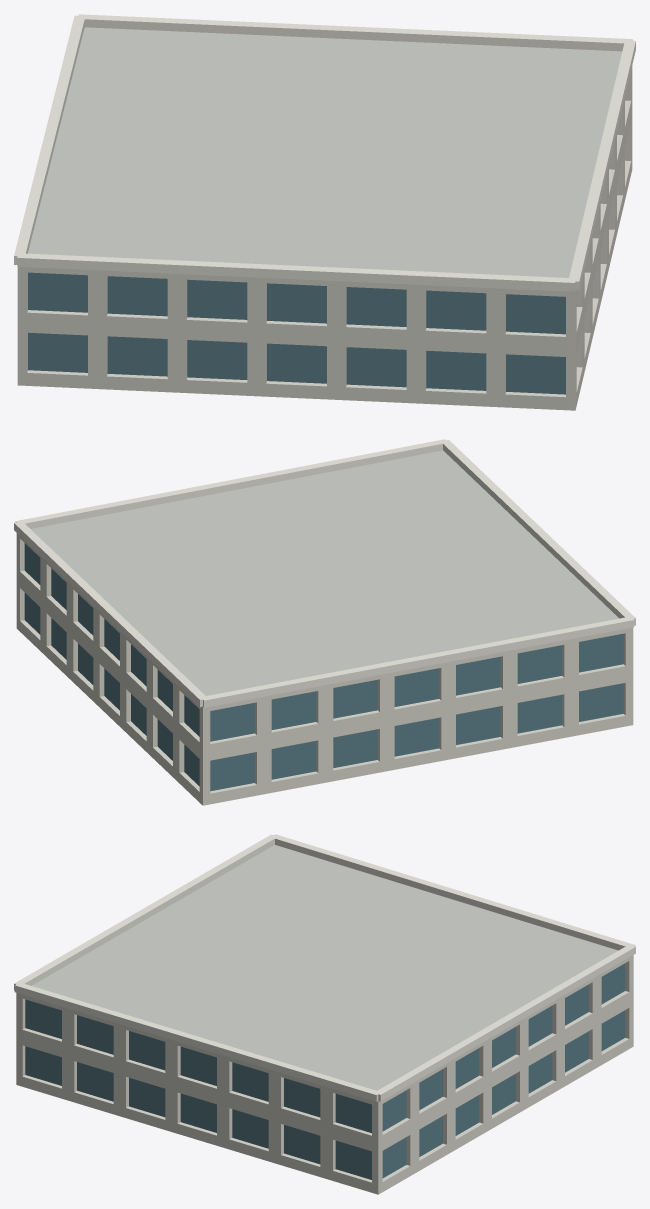
The model's file is sb_1365750549.far.glb.
The picture shows the model from 3 angles, top to bottom: view 1: azimuth 30°, elevation 25°; view 2: azimuth 150°, elevation 25°; view 3: azimuth 270°, elevation 25°; orthographic projection. The views are drawn at different scales.
Parts seen in each view (by area): view 1: roof, wall, glass, trim; view 2: roof, wall, glass, trim; view 3: roof, wall, glass, trim.
Part boxes in pixels (x1,y1,x2,y2): roof: (28, 27, 622, 277); wall: (17, 66, 632, 410); glass: (28, 272, 565, 394); trim: (14, 14, 635, 291); roof: (31, 450, 618, 695); wall: (16, 533, 633, 805); glass: (24, 543, 623, 791); trim: (14, 439, 635, 707); roof: (32, 845, 618, 1090); wall: (16, 955, 633, 1194); glass: (25, 963, 625, 1179); trim: (14, 834, 635, 1101).
Size of the model in its own units: 35.83 by 6.44 by 36.08.
